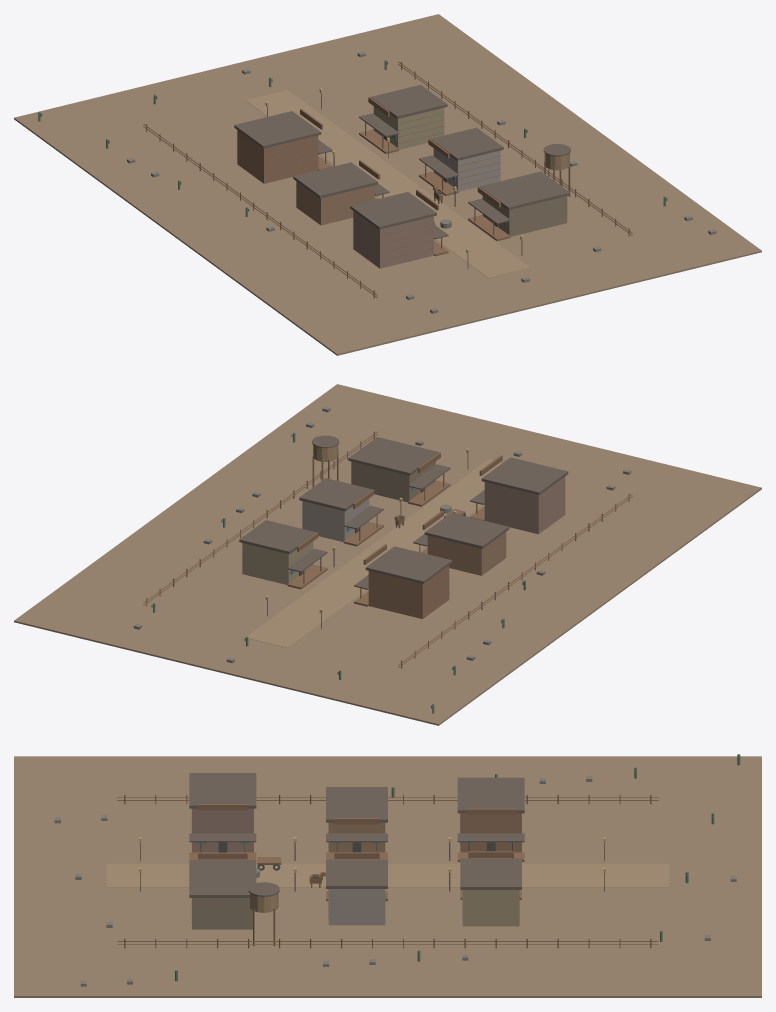
File: frontier_town_preview.glb
3 renders of one model, top to bottom at view 1: azimuth 30°, elevation 25°; view 2: azimuth 150°, elevation 25°; view 3: azimuth 270°, elevation 25°, orthographic. The views are drawn at different scales.
Visible parts, largest first — view 1: Desert Ground_1, Main Street_1, Hotel Walls_1, Saloon Walls_1, Livery Roof_1, Saloon Roof_1, Hotel Roof_1, Livery Walls_1, General Store Walls_1, Sheriff Walls_1, General Store Roof_1, Bank Walls_1 (+2 smaller); view 2: Desert Ground_1, Main Street_1, Hotel Walls_1, Saloon Walls_1, General Store Walls_1, Livery Roof_1, Hotel Roof_1, Saloon Roof_1, Sheriff Walls_1, Livery Walls_1, General Store Roof_1, Bank Walls_1 (+2 smaller); view 3: Desert Ground_1, Main Street_1, Livery Roof_1, Saloon Roof_1, Hotel Roof_1, Sheriff Walls_1, Bank Walls_1, Hotel Walls_1, General Store Roof_1, Sheriff Roof_1, Livery Walls_1, Bank Roof_1 (+8 smaller).
Part boxes in pixels (<box>): Desert Ground_1: <box>14,14,761,355</box>; Main Street_1: <box>245,90,530,278</box>; Hotel Walls_1: <box>353,211,433,268</box>; Saloon Walls_1: <box>237,130,318,183</box>; Livery Roof_1: <box>479,171,570,210</box>; Saloon Roof_1: <box>234,111,321,148</box>; Hotel Roof_1: <box>350,192,436,229</box>; Livery Walls_1: <box>482,196,567,236</box>; General Store Walls_1: <box>296,181,374,225</box>; Sheriff Walls_1: <box>373,106,444,149</box>; General Store Roof_1: <box>293,162,377,198</box>; Bank Walls_1: <box>433,148,500,191</box>; Desert Ground_1: <box>14,384,761,725</box>; Main Street_1: <box>245,460,501,648</box>; Hotel Walls_1: <box>484,476,565,534</box>; Saloon Walls_1: <box>368,565,449,618</box>; General Store Walls_1: <box>427,532,506,575</box>; Livery Roof_1: <box>348,437,438,475</box>; Hotel Roof_1: <box>481,457,568,495</box>; Saloon Roof_1: <box>365,546,452,583</box>; Sheriff Walls_1: <box>242,541,313,584</box>; Livery Walls_1: <box>351,461,435,502</box>; General Store Roof_1: <box>424,512,509,548</box>; Bank Walls_1: <box>302,499,369,541</box>; Desert Ground_1: <box>14,756,761,997</box>; Main Street_1: <box>107,863,668,887</box>; Livery Roof_1: <box>189,860,256,897</box>; Saloon Roof_1: <box>457,777,524,813</box>; Hotel Roof_1: <box>189,773,256,808</box>; Sheriff Walls_1: <box>462,890,519,926</box>; Bank Walls_1: <box>328,889,385,925</box>; Hotel Walls_1: <box>192,808,253,852</box>; General Store Roof_1: <box>326,787,387,822</box>; Sheriff Roof_1: <box>460,858,521,889</box>; Livery Walls_1: <box>192,898,252,929</box>; Bank Roof_1: <box>326,859,387,888</box>.
Bounding box in the file's own units: 110 × 11.9 × 145.
